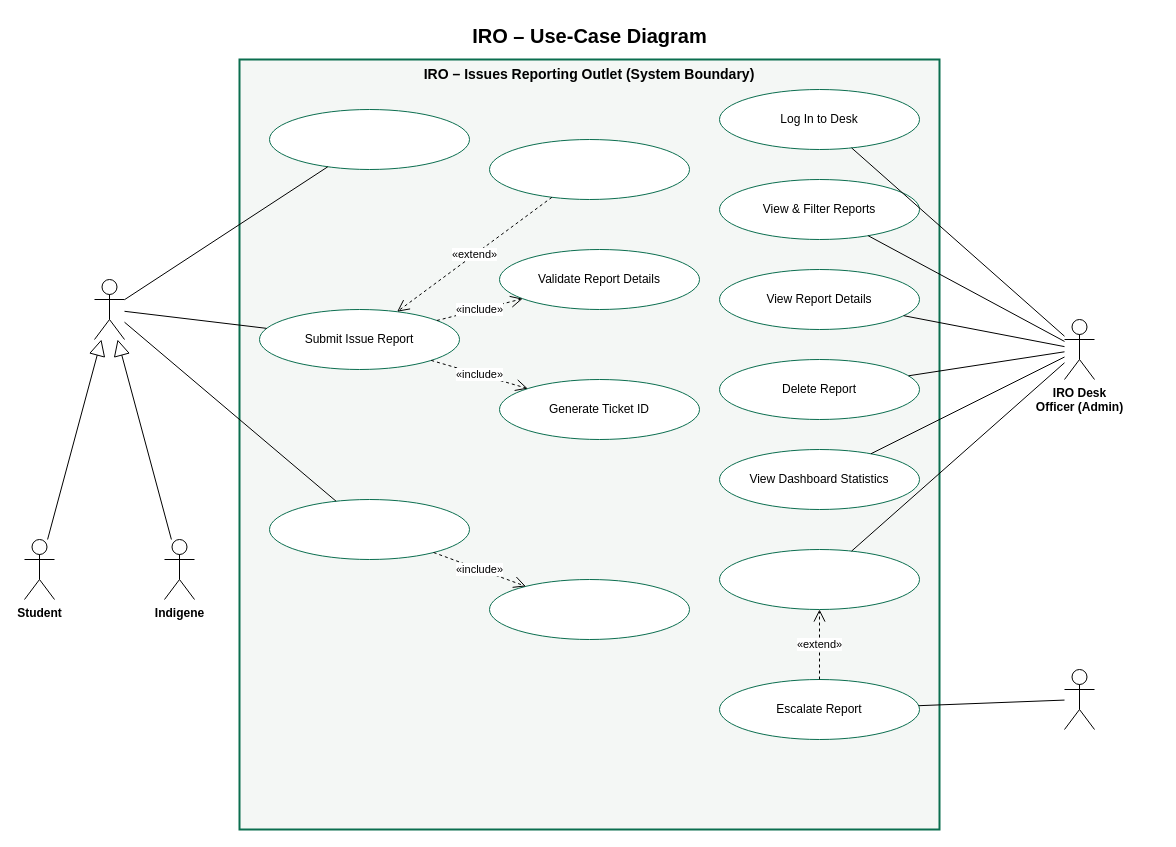
The diagram is 1176 pixels wide and 847 high, and some of its shapes have lost their labels. The centre of each missing label's shape, as x and y in pixels:
Escalation Authority (Students' Affairs / Community Leader / Police): the point at 1079,699
Report Anonymously: the point at 589,169
Reporter: the point at 109,309
Track Report Status: the point at 369,529
Update Report Status: the point at 819,579
View Home & Reporting Guidelines: the point at 369,139
View Status History: the point at 589,609
